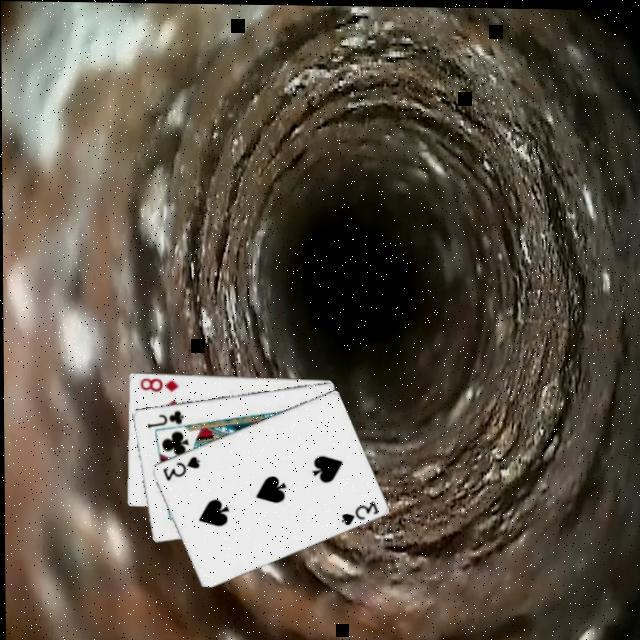3S: (337, 494, 381, 526), (158, 450, 202, 481)
8D: (137, 372, 181, 393)
JC: (144, 404, 186, 428)
